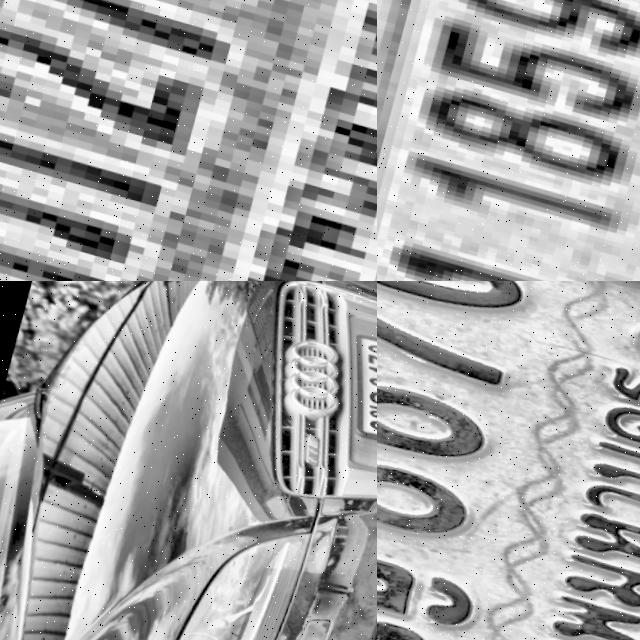license-plate: (0, 0, 377, 281), (377, 281, 640, 640), (377, 0, 640, 281), (329, 319, 377, 453)
